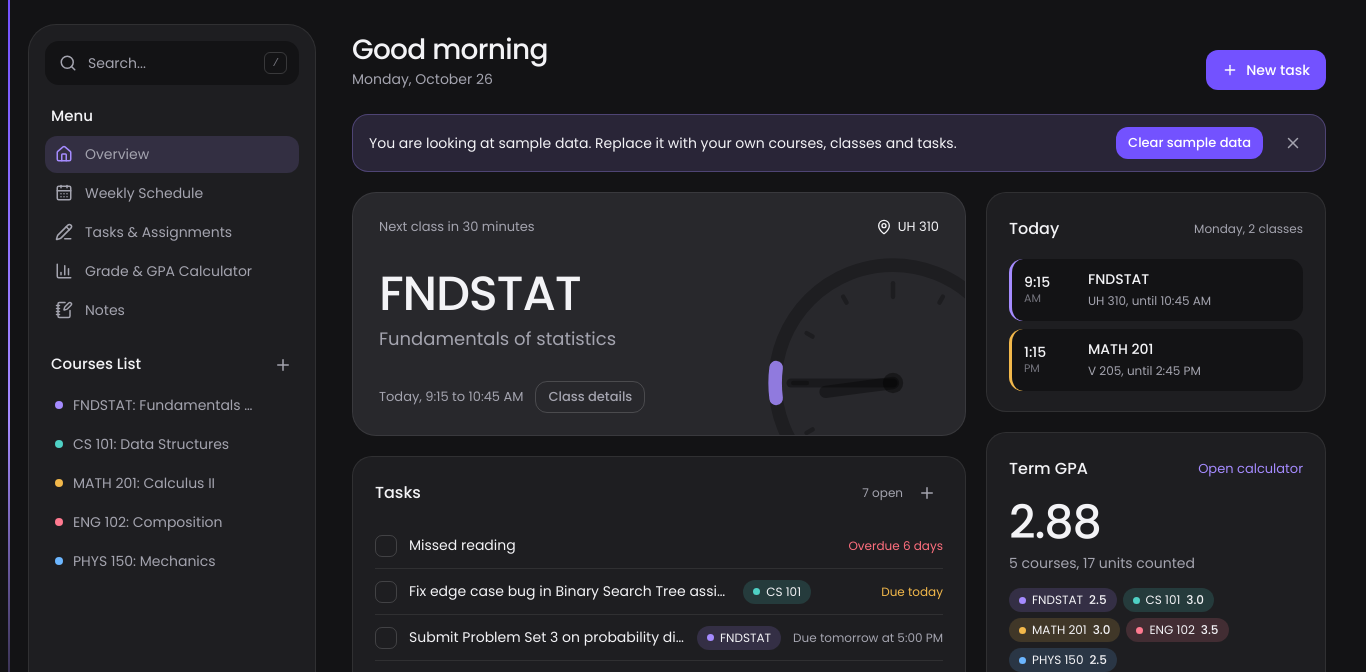
Test: Tasks › shows overdue work in its own group
This screenshot has width=1366, height=672.
Click the link "Tasks & Assignments". click: [144, 232]
box: [55, 222, 232, 242]
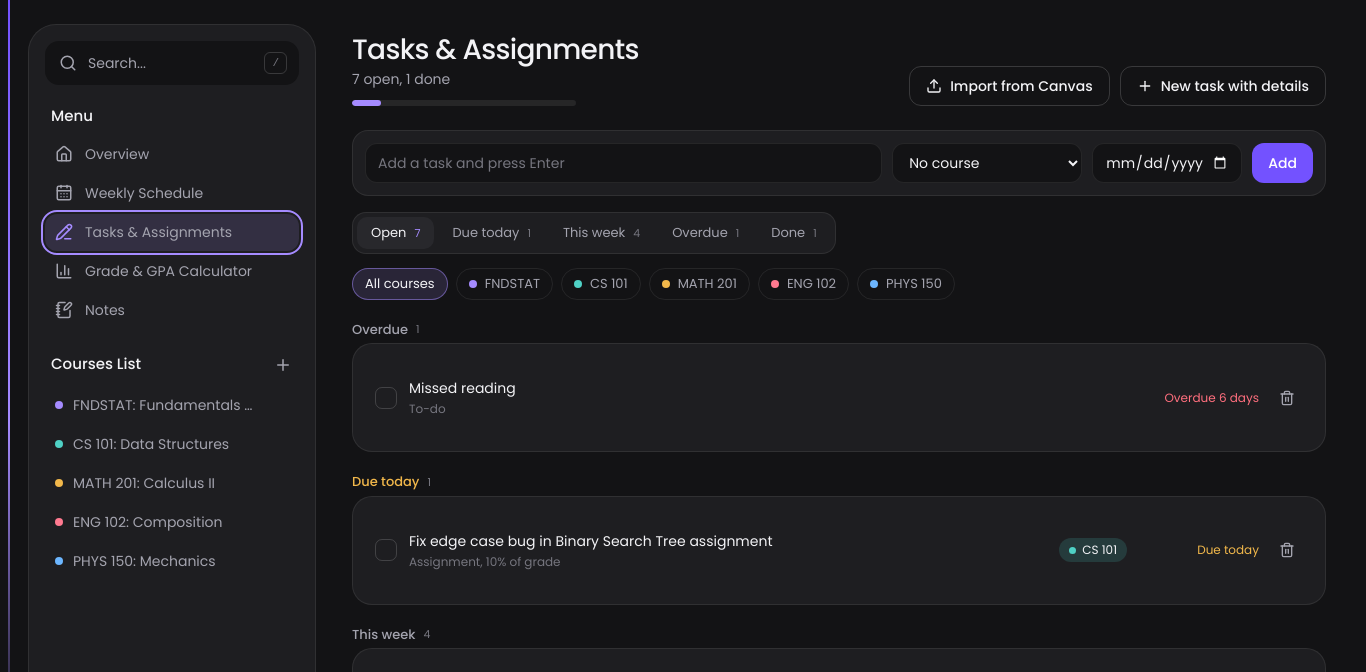
Check: the element "Overdue" shows "Missed reading", box [409, 376, 1115, 419]
Check: the element "Overdue" shows "Overdue 6 days", box [1164, 388, 1259, 406]
